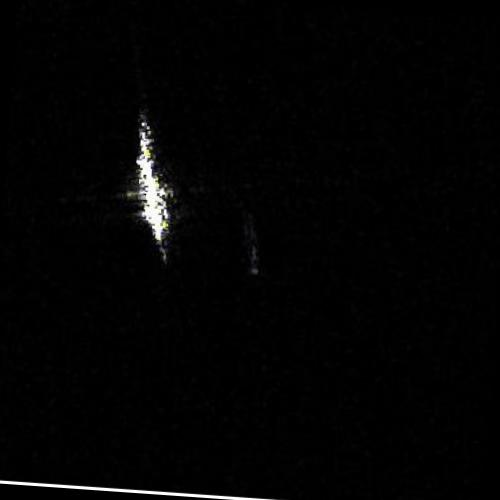ship: (136, 117, 171, 245)
